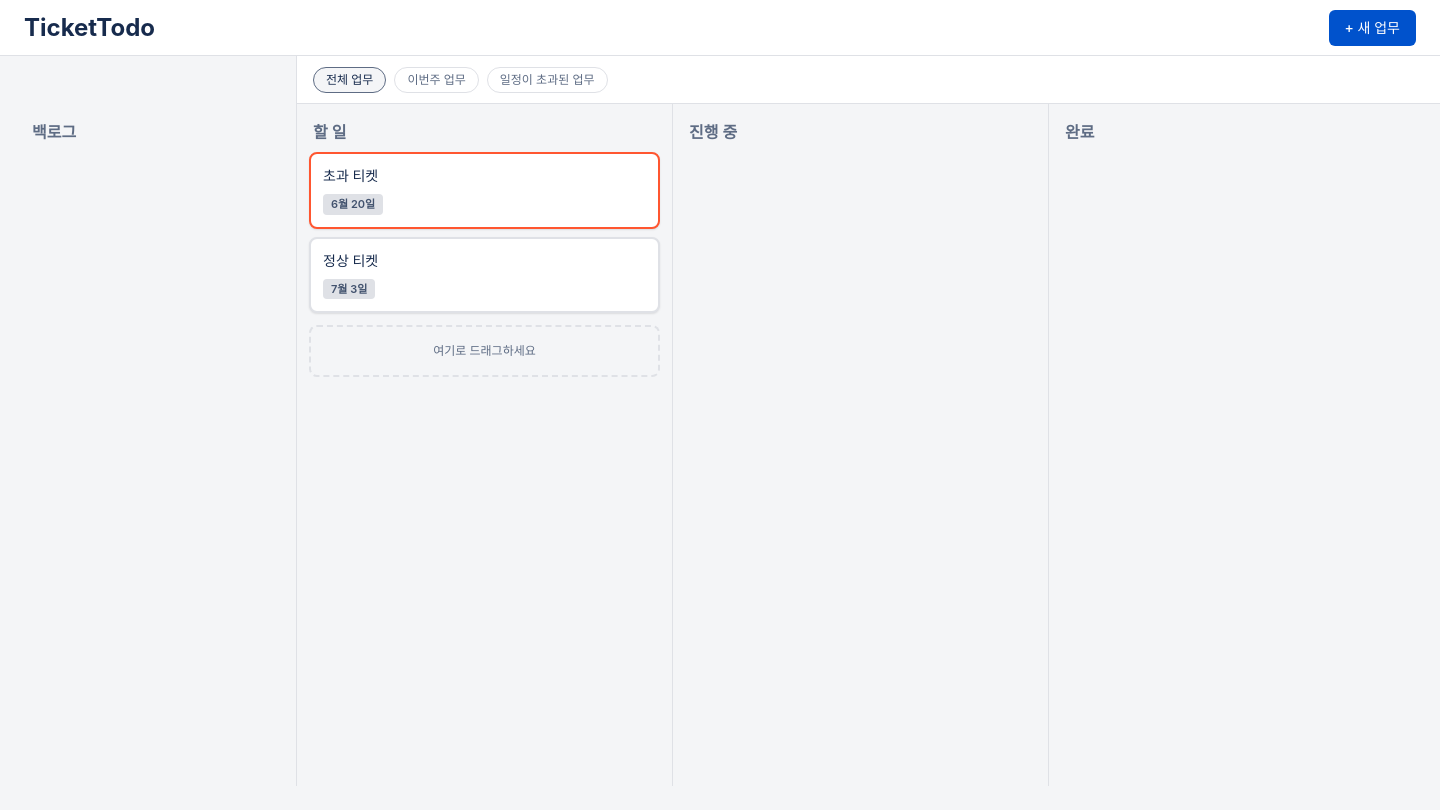
Test: Board — 필터 (FR-017, FR-018) › "일정이 초과된 업무" 토글 → 초과 티켓만 표시
Check: the text "초과 티켓" is shown, box 323,167 -> 378,184
Check: the text "정상 티켓" is shown, box 323,252 -> 378,268
Click the button "일정이 초과된 업무" at (547, 80), box 487,66 -> 608,92
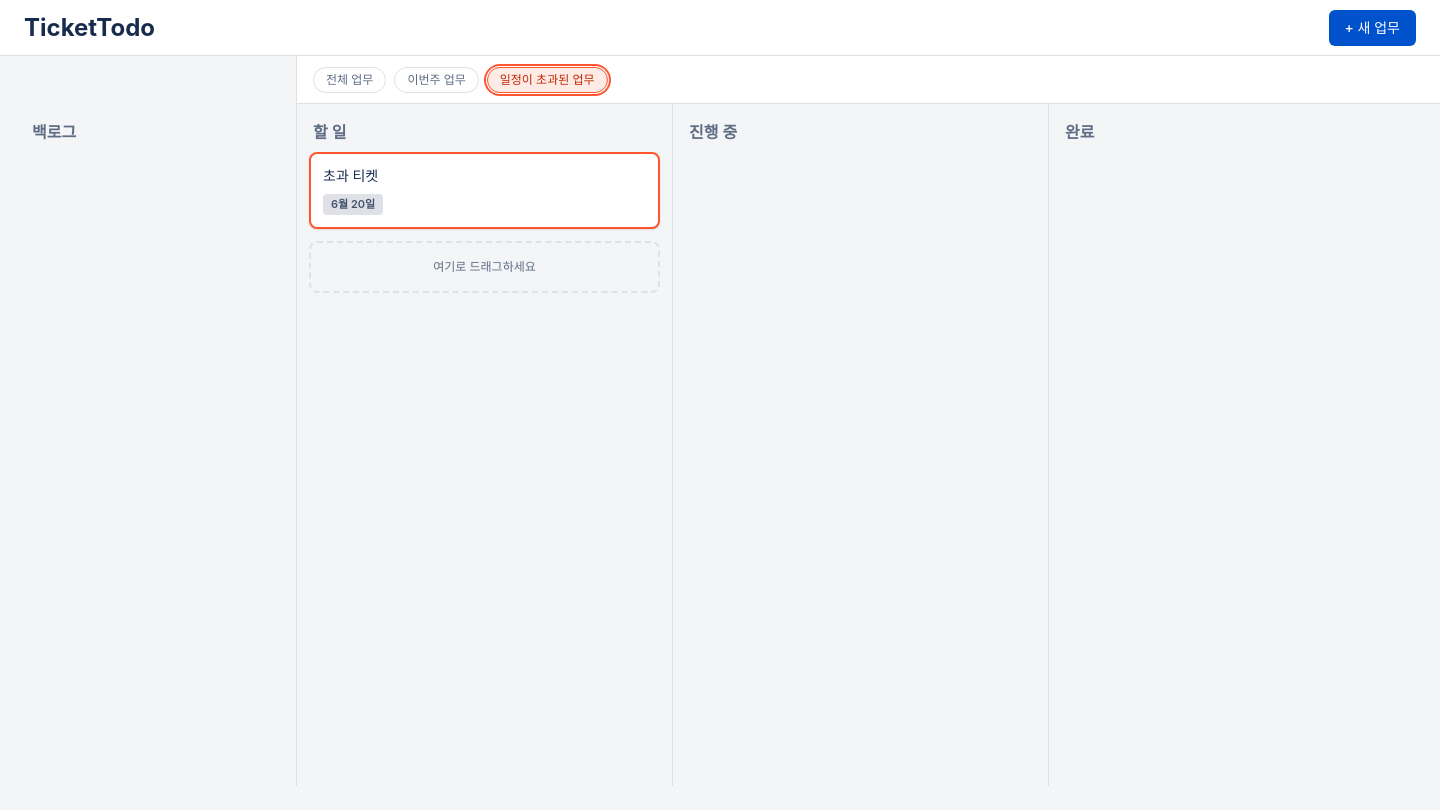
Check: the text "초과 티켓" is shown, box 323,167 -> 378,184
Check: the list item "정상 티켓" is gone
